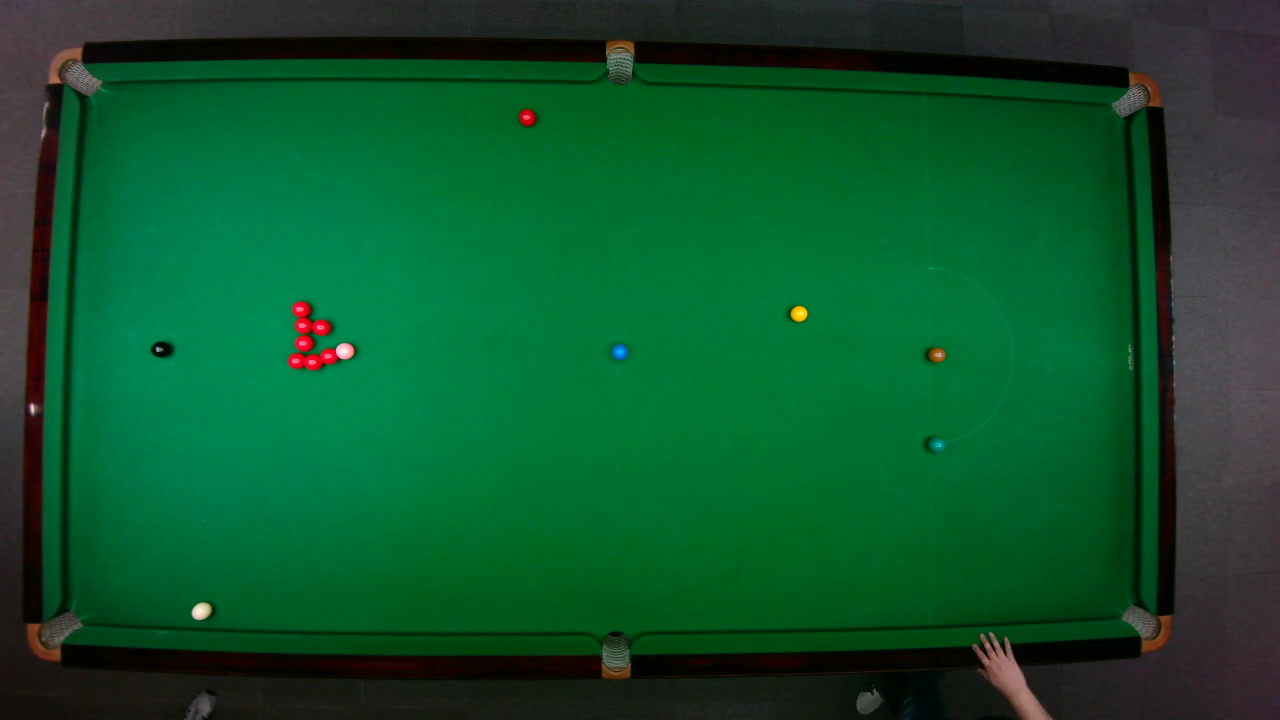bag: (25, 609, 83, 662), (46, 46, 102, 96), (1118, 603, 1171, 651), (1108, 71, 1161, 117), (600, 629, 629, 680), (605, 38, 633, 85)
black: (149, 339, 171, 357)
blue: (609, 342, 628, 360)
brown: (926, 346, 945, 362)
green: (926, 435, 946, 452)
pink: (334, 341, 355, 360)
red: (517, 107, 536, 127), (310, 317, 331, 335), (290, 299, 311, 317), (302, 352, 323, 370), (318, 346, 337, 365), (293, 334, 313, 352), (286, 351, 305, 369), (292, 317, 312, 334)
white: (190, 600, 212, 620)
yellow: (788, 303, 808, 322)
zone: (925, 265, 1013, 444)
